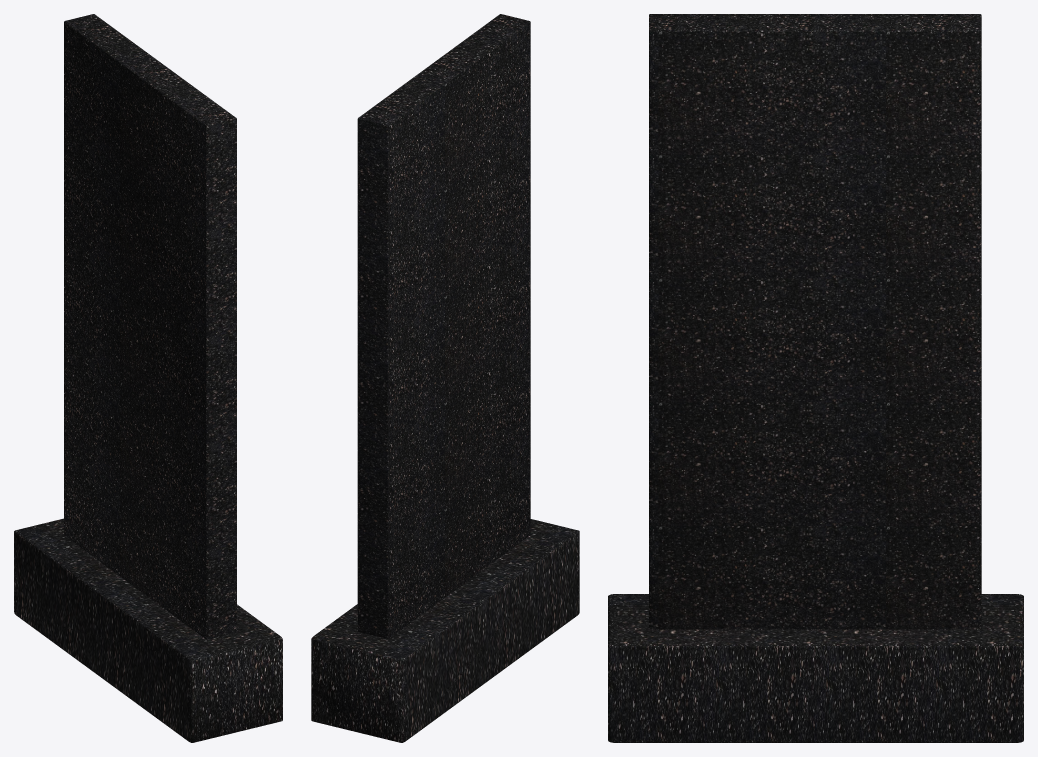
Rendered from Прямой [granite_1_standard] (80).glb.
3 views of the same model, side by side, from view 1: azimuth 30°, elevation 25°; view 2: azimuth 150°, elevation 25°; view 3: azimuth 270°, elevation 25° (orthographic). The views are drawn at different scales.
Visible parts, largest first — view 1: Cube.029, Куб.004; view 2: Cube.029, Куб.004; view 3: Cube.029, Куб.004.
Boxes of the visible parts, left/top/right/bottom form: Cube.029: left=64, top=14, right=236, bottom=639; Куб.004: left=14, top=518, right=282, bottom=742; Cube.029: left=357, top=14, right=530, bottom=638; Куб.004: left=311, top=519, right=579, bottom=742; Cube.029: left=649, top=14, right=981, bottom=629; Куб.004: left=608, top=594, right=1023, bottom=742.
Bounding box in the file's own units: 0.15 × 0.9238 × 0.5.
Materials: 2 (2 with a texture image).
